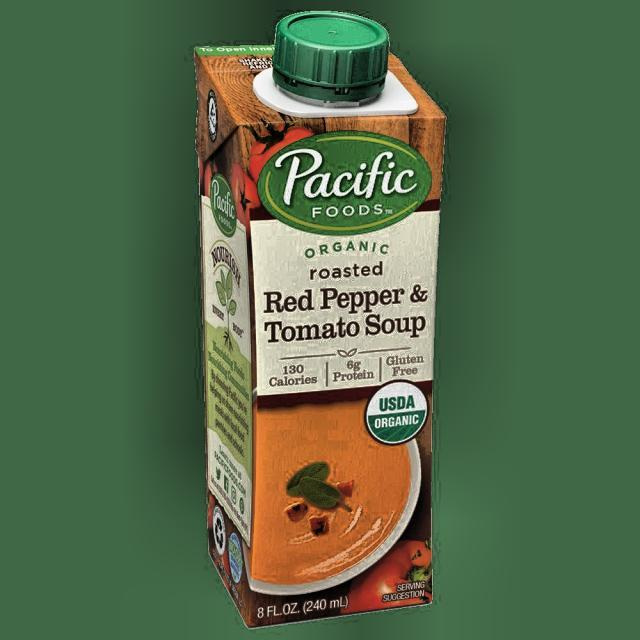cardboard: (193, 42, 446, 628)
